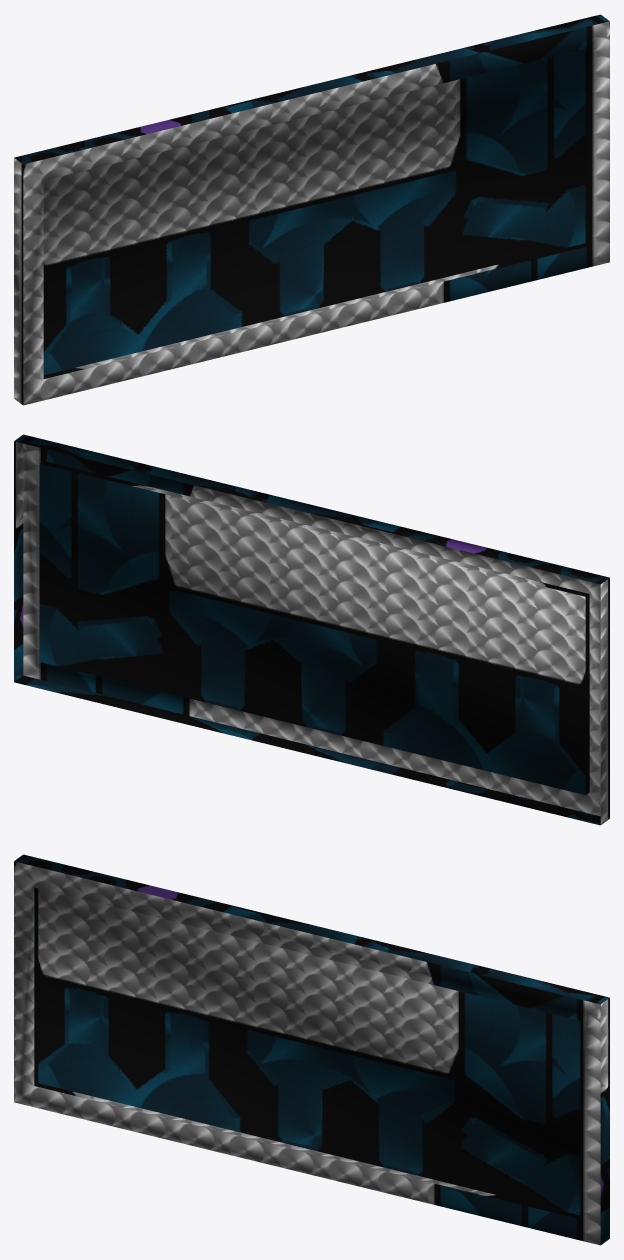
File: Panel.fbx
3 renders of one model, top to bottom at view 1: azimuth 30°, elevation 25°; view 2: azimuth 150°, elevation 25°; view 3: azimuth 330°, elevation 25°, orthographic.
Visible parts, largest first — view 1: Panel; view 2: Panel; view 3: Panel.
Part boxes in pixels (x1,y1,x2,y2): Panel: (14, 14, 609, 405); Panel: (14, 434, 609, 825); Panel: (14, 854, 609, 1245).
Bounding box in the file's own units: 400 × 157 × 11.
1 material, 1 textured.
